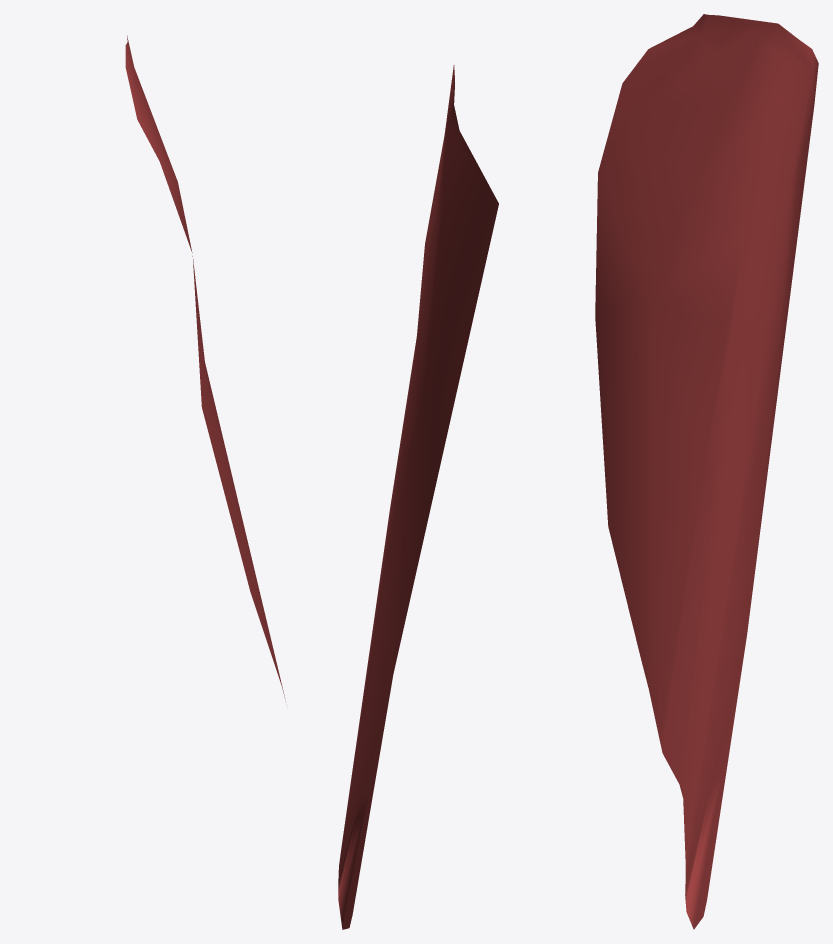
The model's file is supinator-el.glb.
The picture shows the model from 3 angles, left to right: view 1: azimuth 30°, elevation 25°; view 2: azimuth 150°, elevation 25°; view 3: azimuth 270°, elevation 25°; orthographic projection. The views are drawn at different scales.
Parts seen in each view (by area): view 1: Supinator.el; view 2: Supinator.el; view 3: Supinator.el.
Part boxes in pixels (x1=…): Supinator.el: x1=125, y1=35, x2=285, y2=701; Supinator.el: x1=338, y1=65, x2=498, y2=929; Supinator.el: x1=595, y1=14, x2=818, y2=929.
Size of the model in its own units: 0.0208 by 0.0818 by 0.0196.
